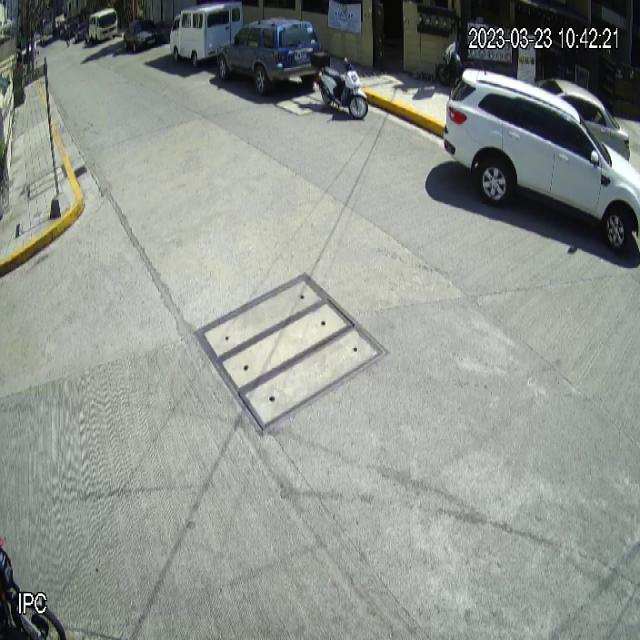Car: (443, 68, 640, 255), (216, 16, 323, 96)
Motorcycle: (312, 54, 368, 120)
Van: (169, 0, 242, 69)
